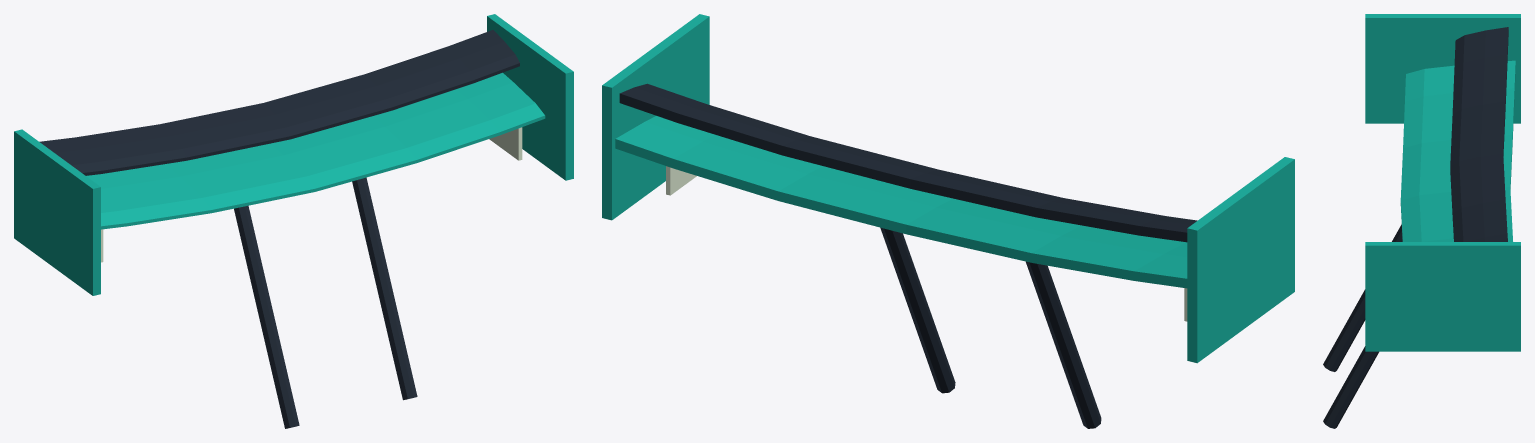
The model's file is stepped.glb.
3 renders of one model, left to right at view 1: azimuth 30°, elevation 25°; view 2: azimuth 150°, elevation 25°; view 3: azimuth 270°, elevation 25°, orthographic. The views are drawn at different scales.
Parts seen in each view (by area): view 1: RearWing; view 2: RearWing; view 3: RearWing.
Boxes of the visible parts, bbox=[...] form: RearWing: bbox=[14, 14, 573, 428]; RearWing: bbox=[602, 14, 1294, 428]; RearWing: bbox=[1323, 14, 1520, 428].
Size of the model in its own units: 1.55 by 0.84 by 0.5596.
